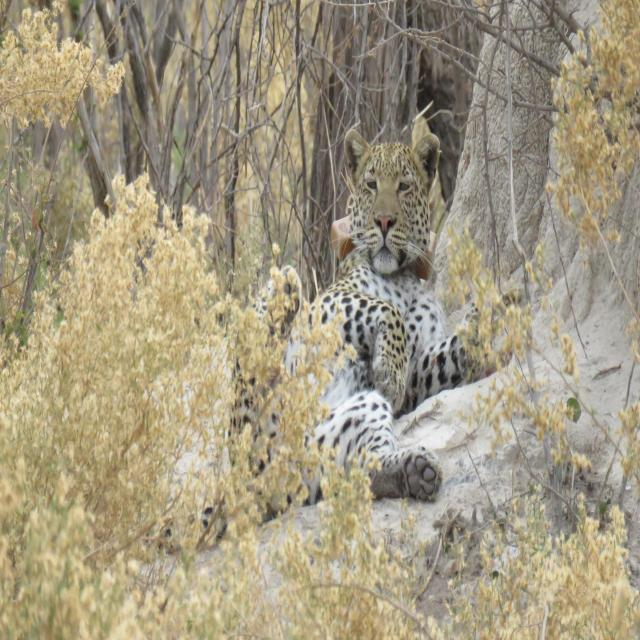Leopard: (153, 116, 525, 565)
